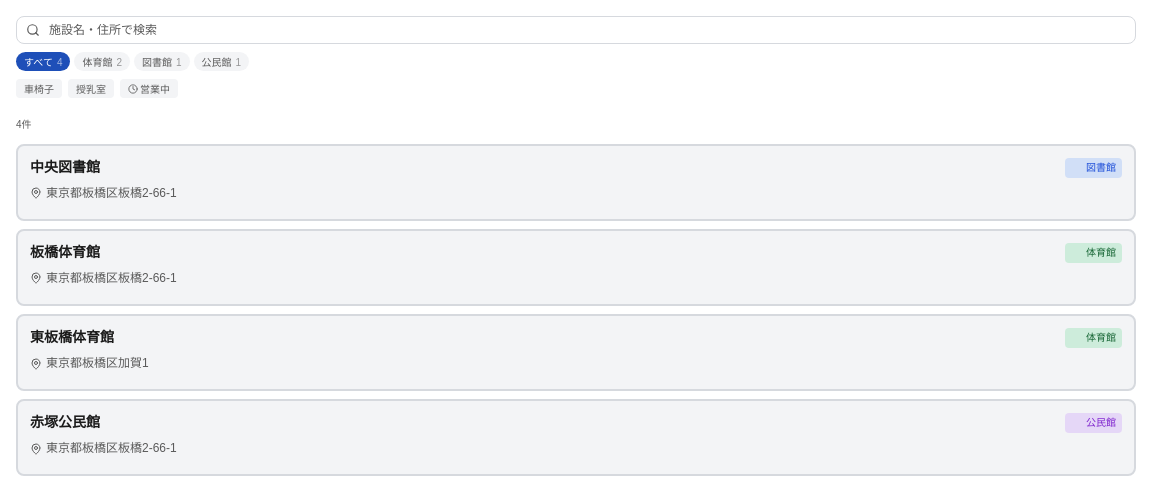
Test: FacilityList › searches by address
Type "加賀" into the field with test id "facility-search-input" at (576, 30), box [16,16,1136,44]
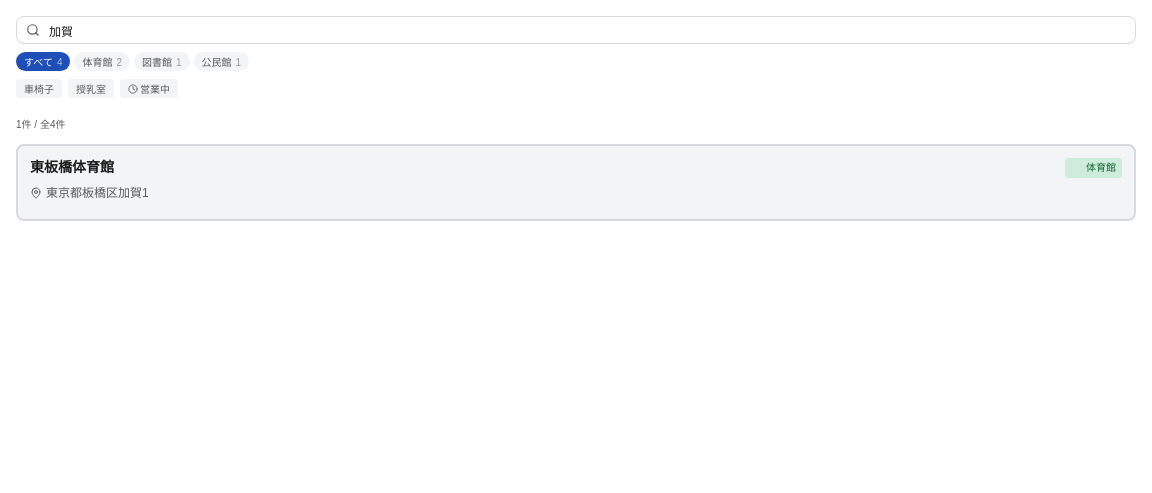
Expected: the heading "東板橋体育館" is shown, [30,158,114,176]
Now the button "中央図書館" is gone
